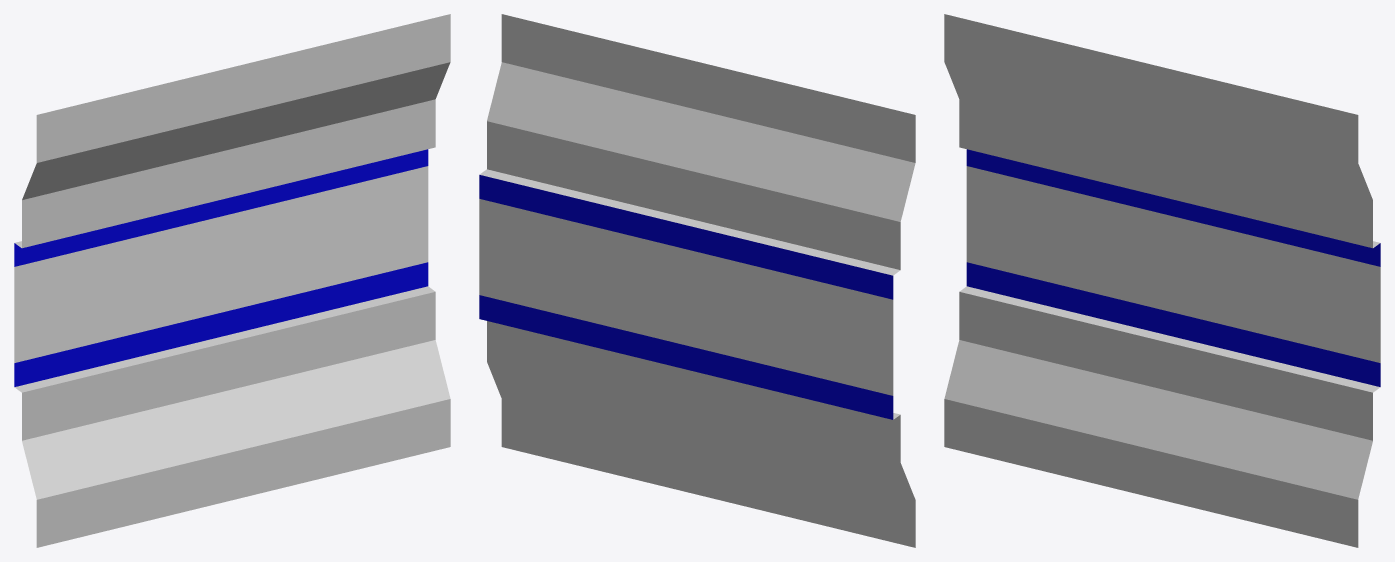
Rendered from Wall001.fbx.
3 views of the same model, side by side, from view 1: azimuth 30°, elevation 25°; view 2: azimuth 150°, elevation 25°; view 3: azimuth 330°, elevation 25° (orthographic).
Parts seen in each view (by area): view 1: Wall001; view 2: Wall001; view 3: Wall001.
Part boxes in pixels (<box>): Wall001: <box>14,14,450,547</box>; Wall001: <box>479,14,915,547</box>; Wall001: <box>944,14,1380,547</box>.
Size of the model in its own units: 2 by 2 by 0.1875.
